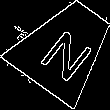N_NE: (32, 15, 98, 80)
